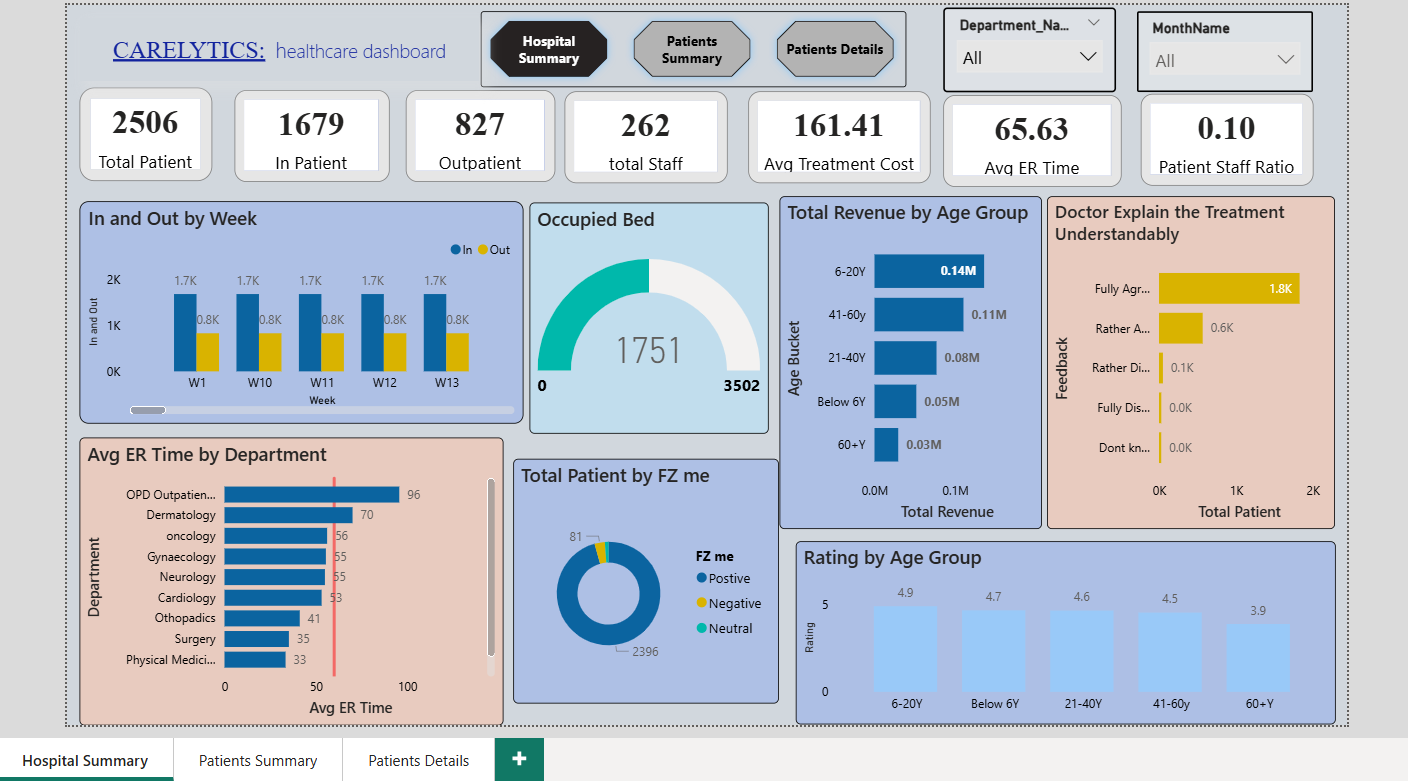

Layout of this report page (visuals, bound fields, positions):
{"tool":"powerbi","page":{"name":"Hospital Summary ","canvas":[1280,720],"ordinal":0},"visuals":[{"type":"cardVisual","fields":{"Data":["Measure.Total Patient"]},"box":[12.5,82.5,132.5,93.8],"z":1000},{"type":"slicer","fields":{"Values":["Department.Department_Name"]},"box":[876.1,3,173.1,85.1],"z":3000},{"type":"slicer","fields":{"Values":["Calendar_date.MonthName"]},"box":[1070.1,6,176.1,80.6],"z":4000},{"type":"cardVisual","fields":{"Data":["Measure.In Patient"]},"box":[167.3,85,154.9,91.9],"z":5000},{"type":"cardVisual","fields":{"Data":["Measure.Outpatient"]},"box":[338.6,85,149.4,91.9],"z":6000},{"type":"cardVisual","fields":{"Data":["Bed_Detail.total Staff"]},"box":[497.7,86.4,163.2,91.9],"z":7000},{"type":"cardVisual","fields":{"Data":["Measure.Avg Treatment Cost"]},"box":[681.4,86.4,182.3,91.9],"z":8000},{"type":"cardVisual","fields":{"Data":["Measure.Avg ER Time"]},"box":[876.1,90.5,178.2,91.9],"z":9000},{"type":"cardVisual","fields":{"Data":["Bed_Detail.Patient Staff Ratio"]},"box":[1073.5,89.1,172.8,91.9],"z":10000},{"type":"clusteredColumnChart","fields":{"Y":["Calendar_date.In Patient","Calendar_date.Outpatient"],"Category":["Calendar_date.WeekName"]},"box":[12.3,196.1,444.2,222.1],"z":11000},{"type":"gauge","fields":{"Y":["Divide(Measure.Occupied Bed, ScopedEval(Measure.Occupied Bed, []))"]},"box":[462.7,197,238.8,231.3],"z":12000},{"type":"clusteredBarChart","title":"Total Revenue by Age Group","fields":{"Y":["Measure.Total Revenue"],"Category":["Detail data dataset.Age Bucket"]},"box":[711.9,191,262.7,332.8],"z":13000},{"type":"barChart","fields":{"Y":["Measure.Avg ER Time"],"Category":["Department.Department_Name"]},"box":[12.3,431.9,423.7,287.9],"z":14000},{"type":"barChart","title":"Doctor Explain the Treatment Understandably","fields":{"Y":["Measure.Total Patient"],"Category":["Detail data dataset.Feedback"]},"box":[980.6,191,288.1,332.8],"z":15000},{"type":"columnChart","title":"Rating by Age Group","fields":{"Y":["Measure.Rating"],"Category":["Detail data dataset.Age Bucket"]},"box":[728.4,535.8,540.3,183.6],"z":16000},{"type":"donutChart","fields":{"Y":["Measure.Total Patient"],"Category":["Detail data dataset.FZ me"]},"box":[446.3,453.7,265.7,244.8],"z":17000},{"type":"pageNavigator","box":[413.4,6,425.4,76.1],"z":18000},{"type":"textbox","box":[11.9,13.4,401.5,64.2],"z":18500}]}

Visuals, with their boxes on the page's 1280x720 design canvas (x1, y1, x2, y2). These are canvas units, not pixel positions in the 1408x781 screenshot, which may show the page scaled, cropped or inside an application window:
cardVisual - Measure.Total Patient: x1=12, y1=82, x2=145, y2=176
slicer - Department.Department_Name: x1=876, y1=3, x2=1049, y2=88
slicer - Calendar_date.MonthName: x1=1070, y1=6, x2=1246, y2=87
cardVisual - Measure.In Patient: x1=167, y1=85, x2=322, y2=177
cardVisual - Measure.Outpatient: x1=339, y1=85, x2=488, y2=177
cardVisual - Bed_Detail.total Staff: x1=498, y1=86, x2=661, y2=178
cardVisual - Measure.Avg Treatment Cost: x1=681, y1=86, x2=864, y2=178
cardVisual - Measure.Avg ER Time: x1=876, y1=90, x2=1054, y2=182
cardVisual - Bed_Detail.Patient Staff Ratio: x1=1074, y1=89, x2=1246, y2=181
clusteredColumnChart - Calendar_date.In Patient x Calendar_date.Outpatient: x1=12, y1=196, x2=456, y2=418
gauge - Divide(Measure.Occupied Bed, ScopedEval(Measure.Occupied Bed, [])): x1=463, y1=197, x2=702, y2=428
"Total Revenue by Age Group" clusteredBarChart: x1=712, y1=191, x2=975, y2=524
barChart - Measure.Avg ER Time x Department.Department_Name: x1=12, y1=432, x2=436, y2=720
"Doctor Explain the Treatment Understandably" barChart: x1=981, y1=191, x2=1269, y2=524
"Rating by Age Group" columnChart: x1=728, y1=536, x2=1269, y2=719
donutChart - Measure.Total Patient x Detail data dataset.FZ me: x1=446, y1=454, x2=712, y2=698
pageNavigator: x1=413, y1=6, x2=839, y2=82
textbox: x1=12, y1=13, x2=413, y2=78
